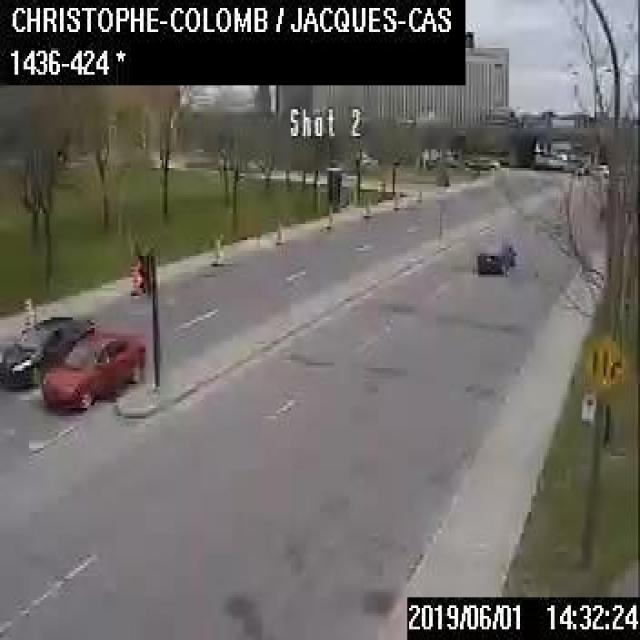construction: (129, 257, 138, 293), (22, 296, 31, 325), (212, 235, 220, 263), (274, 216, 282, 243), (324, 204, 331, 228), (362, 195, 369, 216), (392, 189, 398, 209)
vehicle: (41, 323, 145, 408), (0, 312, 96, 386), (476, 240, 514, 272), (466, 153, 498, 167), (588, 160, 607, 178), (574, 160, 594, 174)
